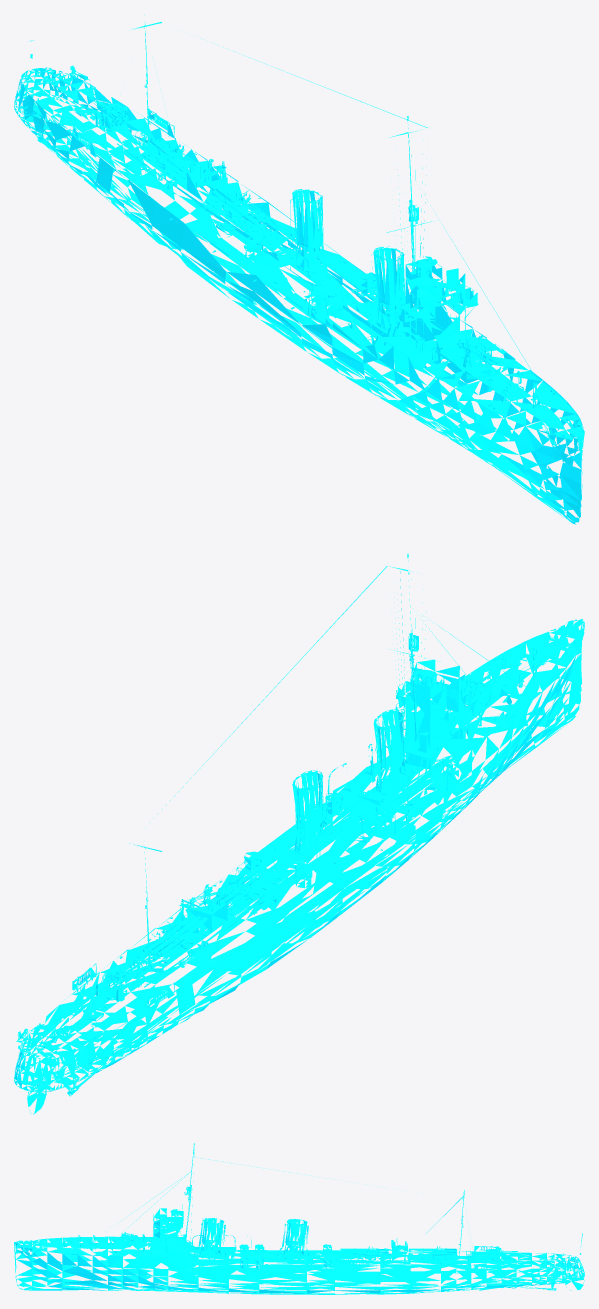
Rendered from PISD102.glb.
3 views of the same model, one above another, from view 1: azimuth 30°, elevation 25°; view 2: azimuth 150°, elevation 25°; view 3: azimuth 270°, elevation 25° (orthographic). The views are drawn at different scales.
Parts seen in each view (by area): view 1: hull_mid, torpedo, main_battery; view 2: hull_mid, torpedo, main_battery; view 3: hull_mid, torpedo, main_battery.
Part boxes in pixels (<box>): hull_mid: <box>14,15,584,524</box>; torpedo: <box>142,136,272,223</box>; main_battery: <box>88,96,499,367</box>; hull_mid: <box>14,553,584,1114</box>; torpedo: <box>142,865,273,958</box>; main_battery: <box>88,673,498,1001</box>; hull_mid: <box>14,1143,584,1294</box>; torpedo: <box>340,1246,457,1259</box>; main_battery: <box>104,1232,517,1262</box>.
Bounding box in the file's own units: 0.5457 × 1.61 × 5.67.
